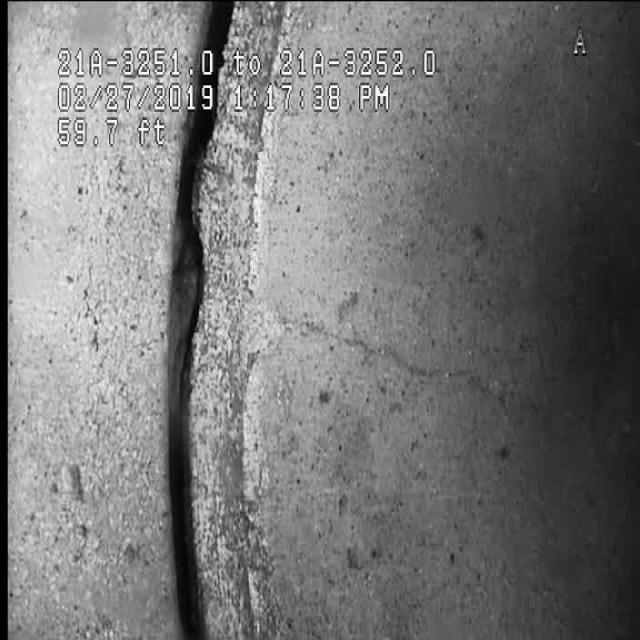Crack: (245, 257, 522, 464)
